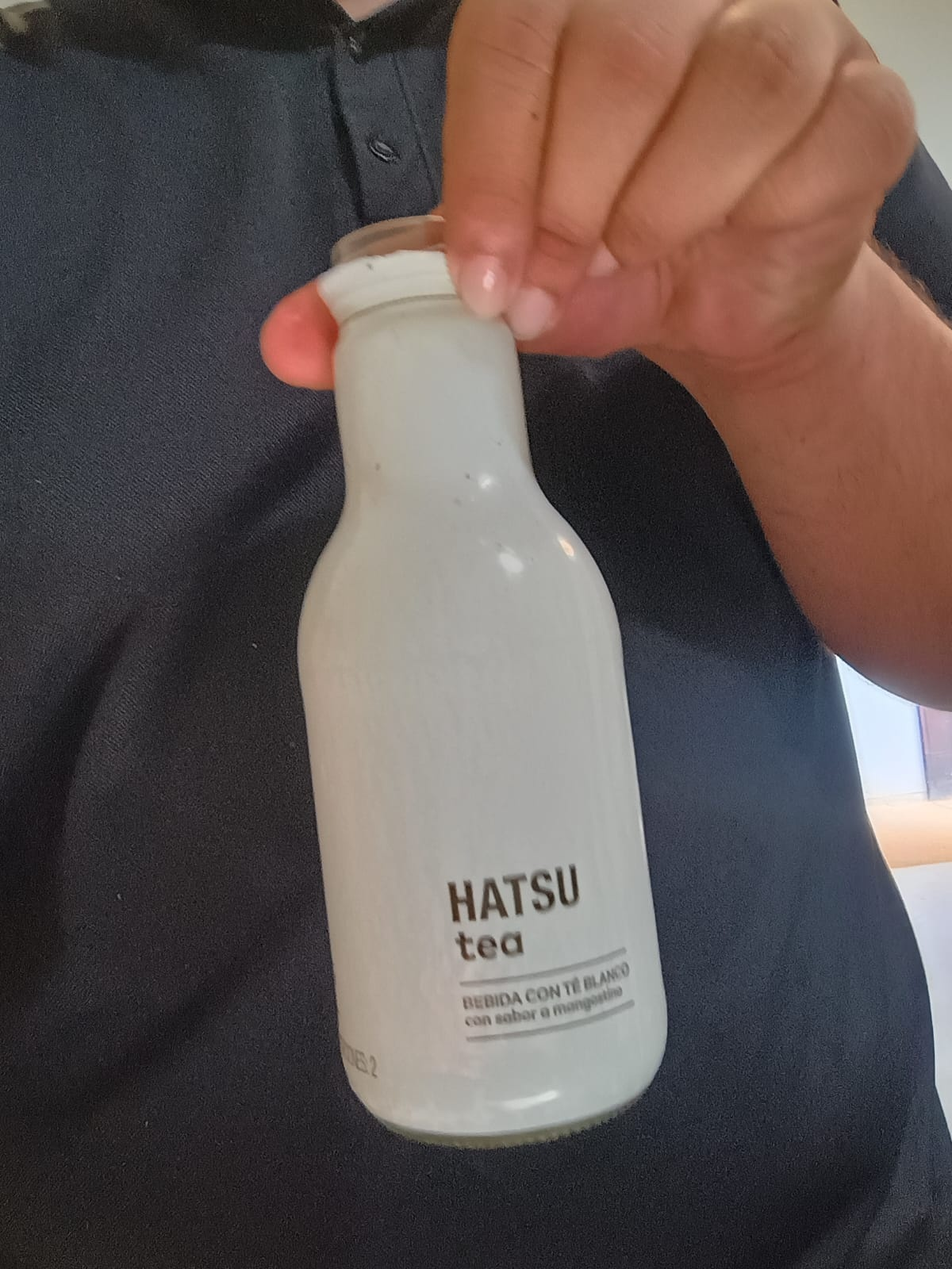Vidrio: (297, 216, 673, 1150)
